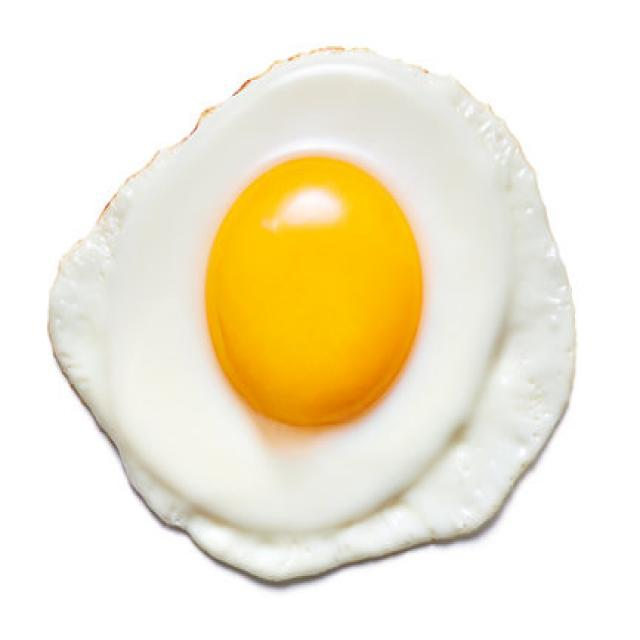Egg: (49, 50, 575, 581)
